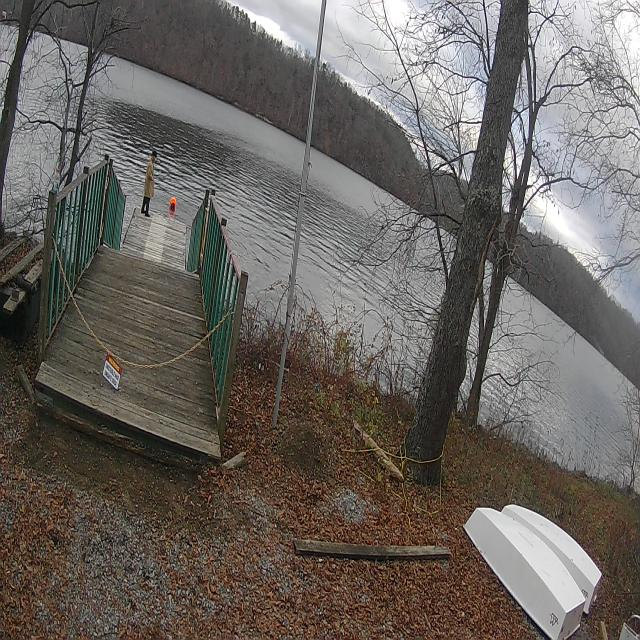Buoy: (166, 187, 183, 218)
